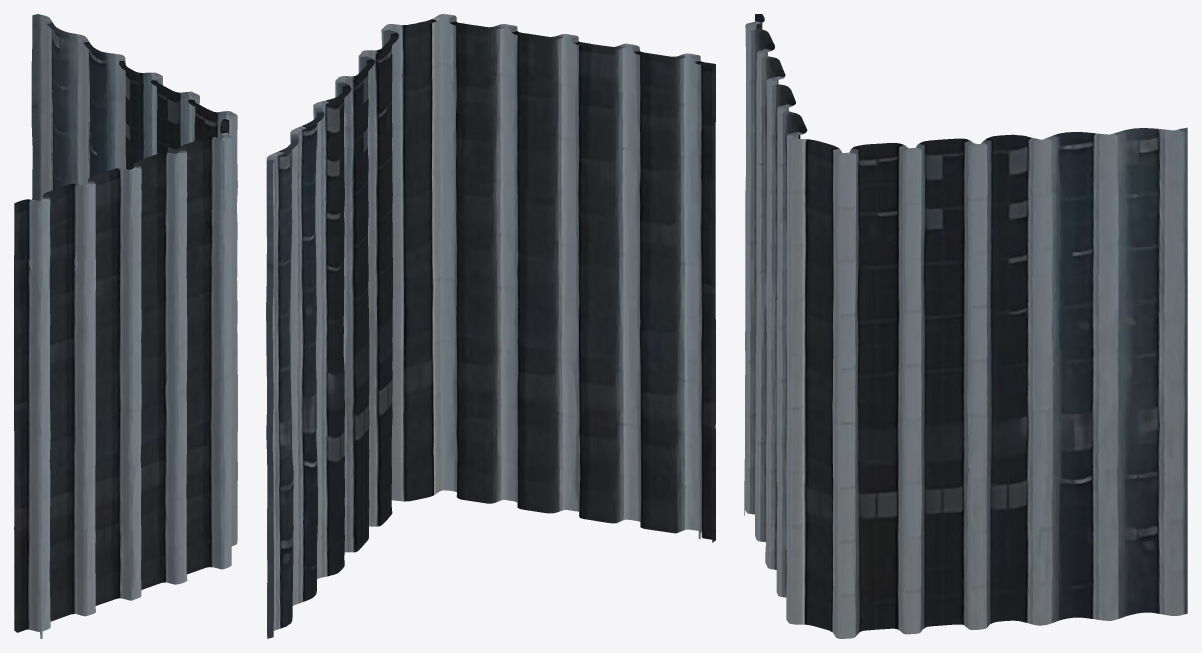
File: z20-167780-405228-h1-yup-uvflip-v3-world.glb
3 renders of one model, left to right at view 1: azimuth 30°, elevation 25°; view 2: azimuth 150°, elevation 25°; view 3: azimuth 270°, elevation 25°, orthographic. The views are drawn at different scales.
Size of the model in its own units: 22.36 by 36.04 by 29.48.
1 material, 1 textured.
